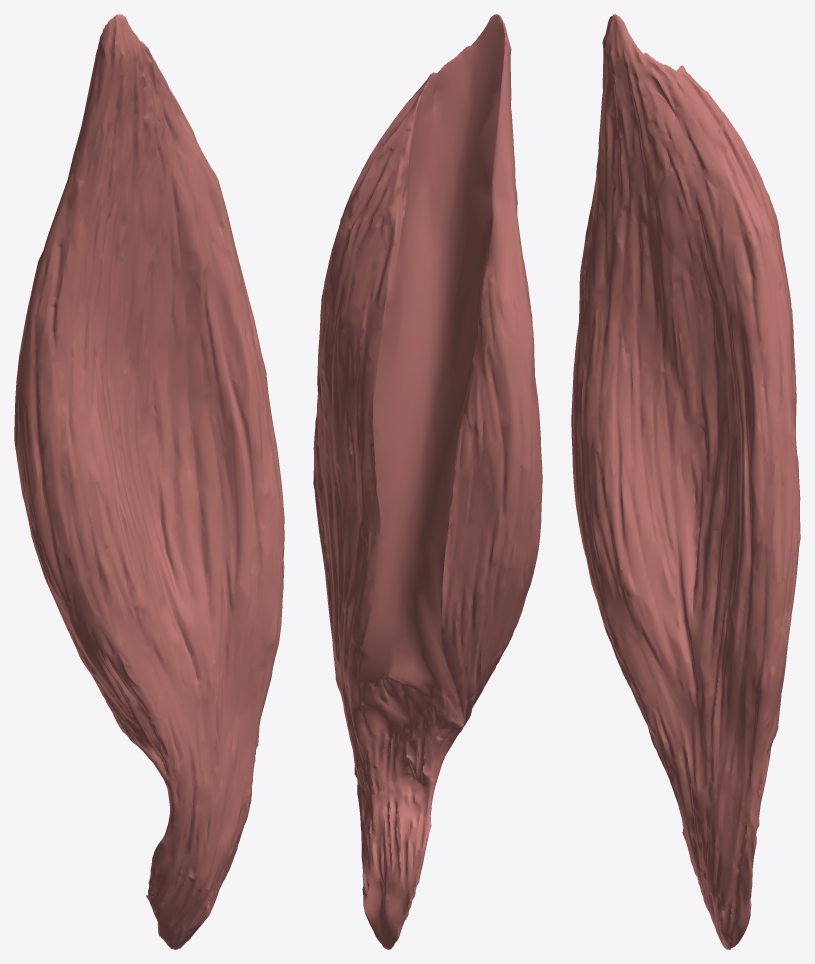
Rendered from fma37669.glb.
The picture shows the model from 3 angles, left to right: view 1: azimuth 30°, elevation 25°; view 2: azimuth 150°, elevation 25°; view 3: azimuth 330°, elevation 25°; orthographic projection. The views are drawn at different scales.
Parts seen in each view (by area): view 1: FMA37669; view 2: FMA37669; view 3: FMA37669.
Part boxes in pixels (box(x1,y1,x2,y2)): FMA37669: box(14, 14, 284, 949); FMA37669: box(313, 14, 542, 949); FMA37669: box(571, 14, 800, 949).
Size of the model in its own units: 0.059 by 0.2248 by 0.0268.
